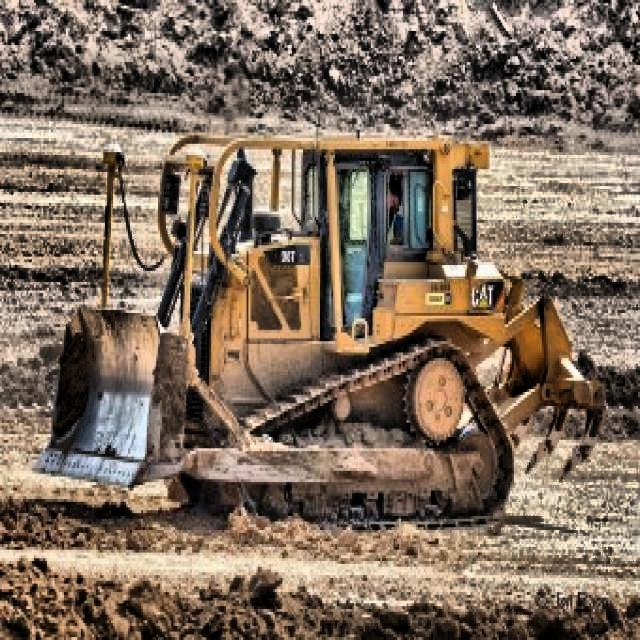bull_dozer/loader/grader: (28, 122, 608, 542)
person: (388, 182, 410, 245)
